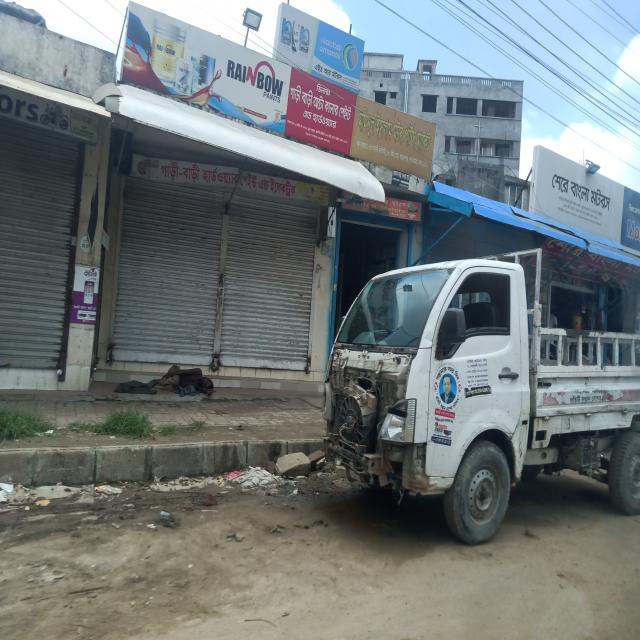truck: (322, 248, 640, 546)
